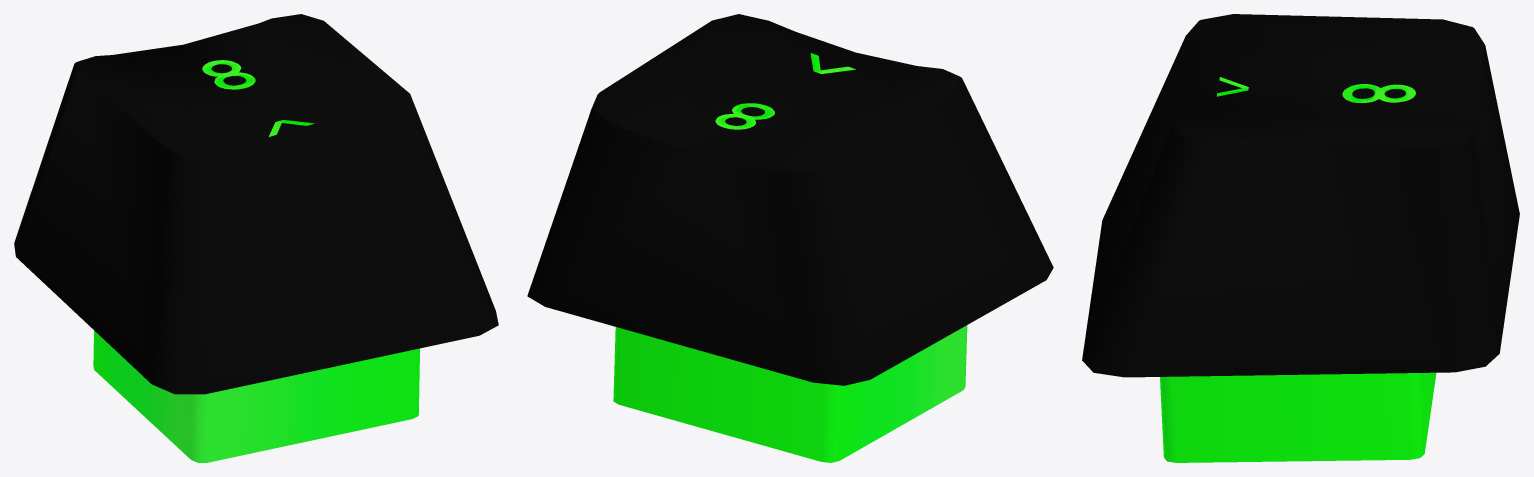
File: key_8-BuCIMx7_.glb
3 renders of one model, left to right at view 1: azimuth 30°, elevation 25°; view 2: azimuth 150°, elevation 25°; view 3: azimuth 270°, elevation 25°, orthographic. The views are drawn at different scales.
Visible parts, largest first — view 1: StudyShelf_216; view 2: StudyShelf_216; view 3: StudyShelf_216.
Boxes of the visible parts, x1,y1,x2,y2 form: StudyShelf_216: (14, 14, 498, 462); StudyShelf_216: (527, 14, 1053, 462); StudyShelf_216: (1082, 14, 1519, 462).
Size of the model in its own units: 4.35 by 3.62 by 4.35.
2 materials, 1 textured.
